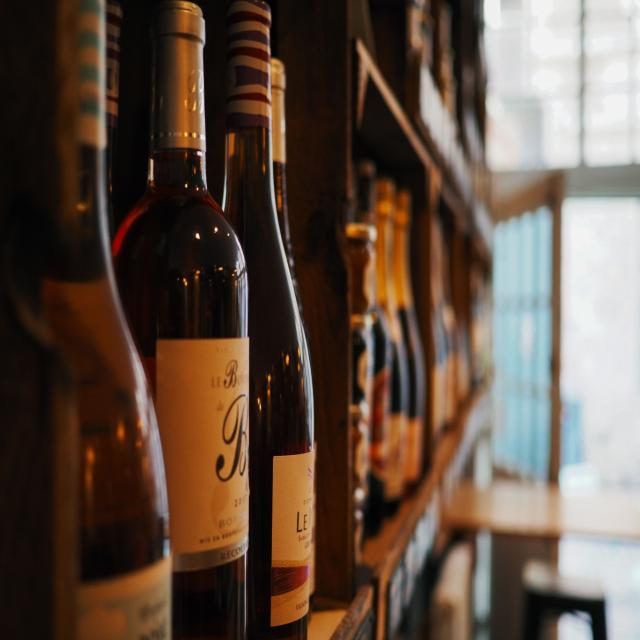Bottle: (114, 2, 249, 639), (42, 2, 171, 637), (224, 0, 314, 639), (346, 160, 393, 536), (376, 178, 409, 513), (346, 223, 376, 563), (394, 190, 425, 486), (271, 59, 304, 326), (271, 59, 303, 317), (430, 214, 447, 441), (106, 0, 122, 239), (451, 230, 470, 406), (442, 234, 458, 426)
